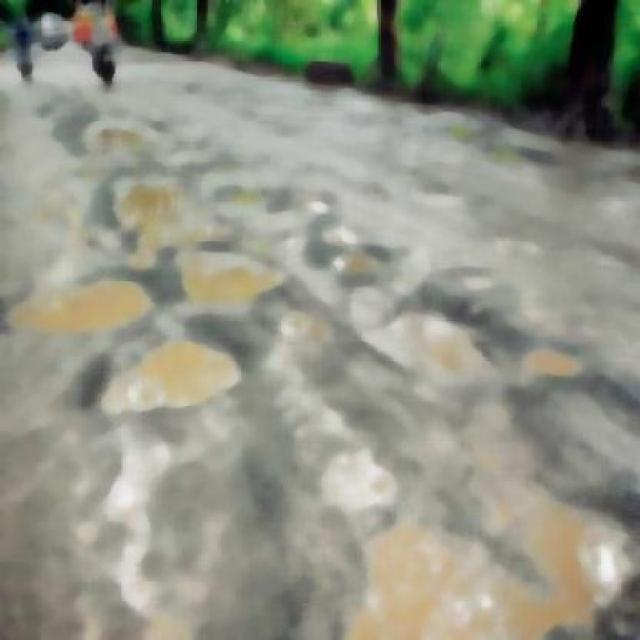pothole: (340, 499, 639, 639), (116, 115, 184, 257), (9, 273, 154, 339), (176, 223, 272, 320), (107, 343, 238, 408)
